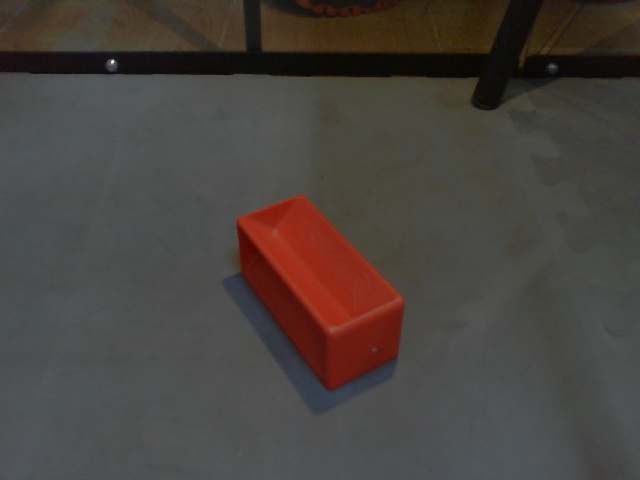RedSample: (234, 193, 407, 391)
